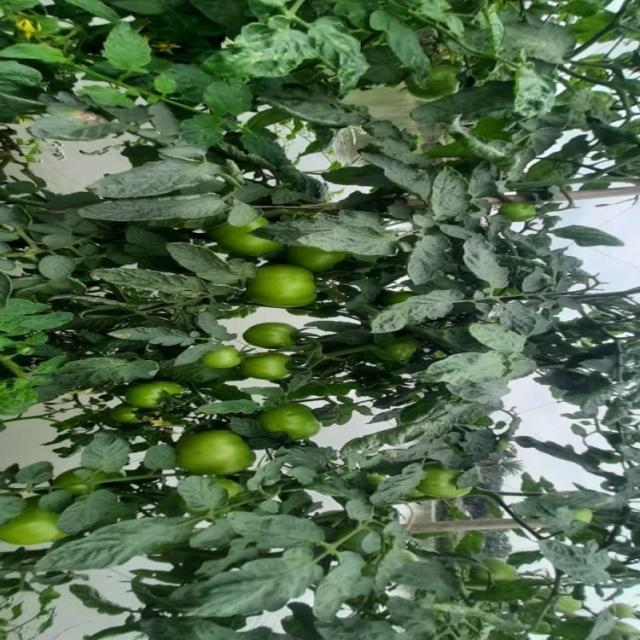tomato: (174, 418, 259, 472), (252, 256, 328, 314), (1, 504, 67, 559), (242, 312, 316, 358), (216, 217, 276, 259), (269, 404, 327, 447), (110, 404, 168, 443), (138, 376, 193, 416), (244, 350, 298, 388), (207, 343, 254, 386), (422, 468, 470, 500), (504, 191, 537, 233)
